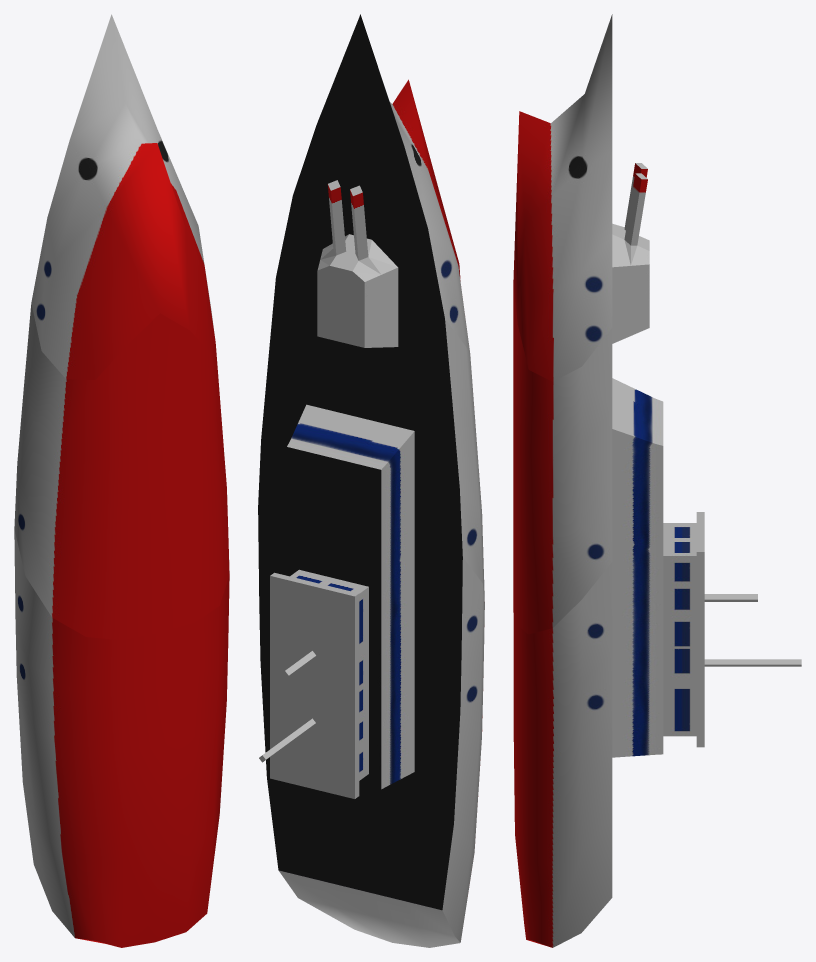
Rendered from patrol boat.FBX.
3 views of the same model, side by side, from view 1: azimuth 30°, elevation 25°; view 2: azimuth 150°, elevation 25°; view 3: azimuth 270°, elevation 25° (orthographic). The views are drawn at different scales.
Parts seen in each view (by area): view 1: Box001; view 2: Box001; view 3: Box001.
Part boxes in pixels (<box>): Box001: <box>14,14,229,947</box>; Box001: <box>258,14,484,947</box>; Box001: <box>513,14,801,947</box>.
Size of the model in its own units: 63.62 by 272 by 77.29.
1 material, 1 textured.
